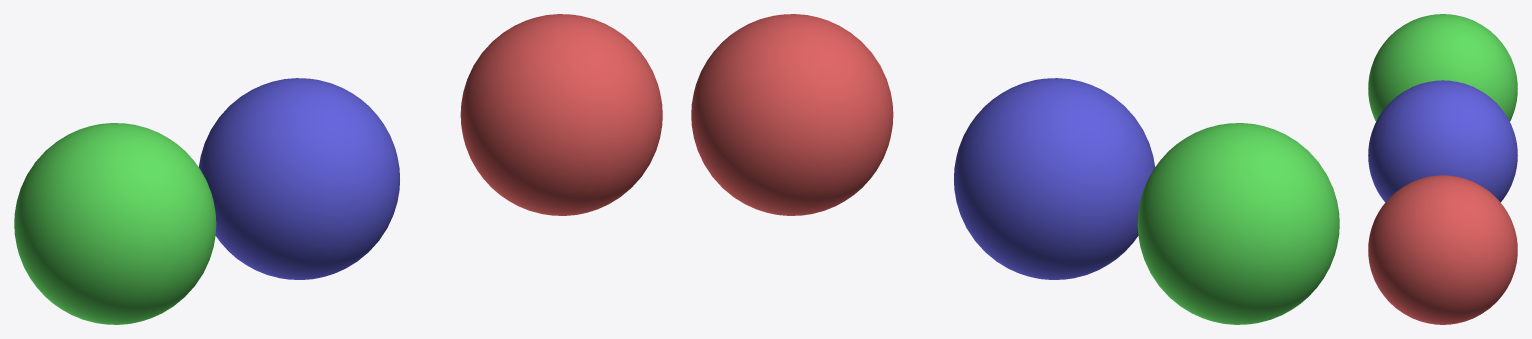
The model's file is 3spheres.gltf.
The picture shows the model from 3 angles, left to right: view 1: azimuth 30°, elevation 25°; view 2: azimuth 150°, elevation 25°; view 3: azimuth 270°, elevation 25°; orthographic projection. The views are drawn at different scales.
Size of the model in its own units: 7.1 by 2 by 2.
